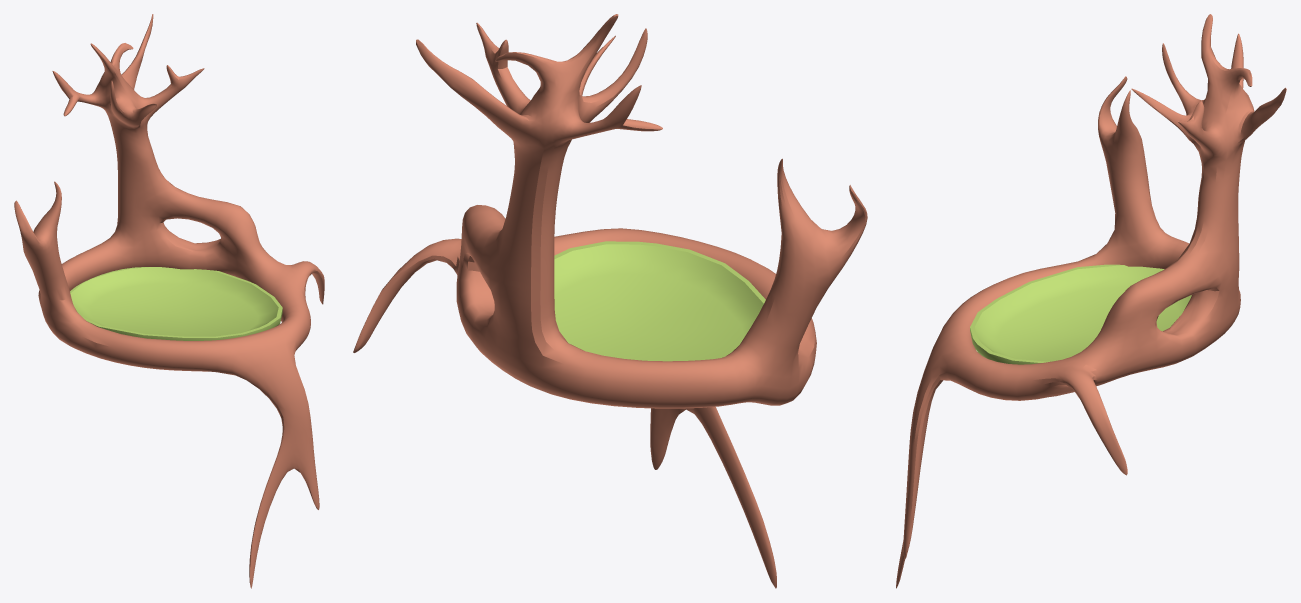
File: Spawnpod.fbx
3 views of the same model, side by side, from view 1: azimuth 30°, elevation 25°; view 2: azimuth 150°, elevation 25°; view 3: azimuth 270°, elevation 25° (orthographic). The views are drawn at different scales.
Visible parts, largest first — view 1: Cube.004; view 2: Cube.004; view 3: Cube.004.
Part boxes in pixels (x1=…): Cube.004: x1=14, y1=14, x2=324, y2=588; Cube.004: x1=353, y1=14, x2=867, y2=588; Cube.004: x1=896, y1=14, x2=1286, y2=588.
Bounding box in the file's own units: 469 × 661 × 420.
